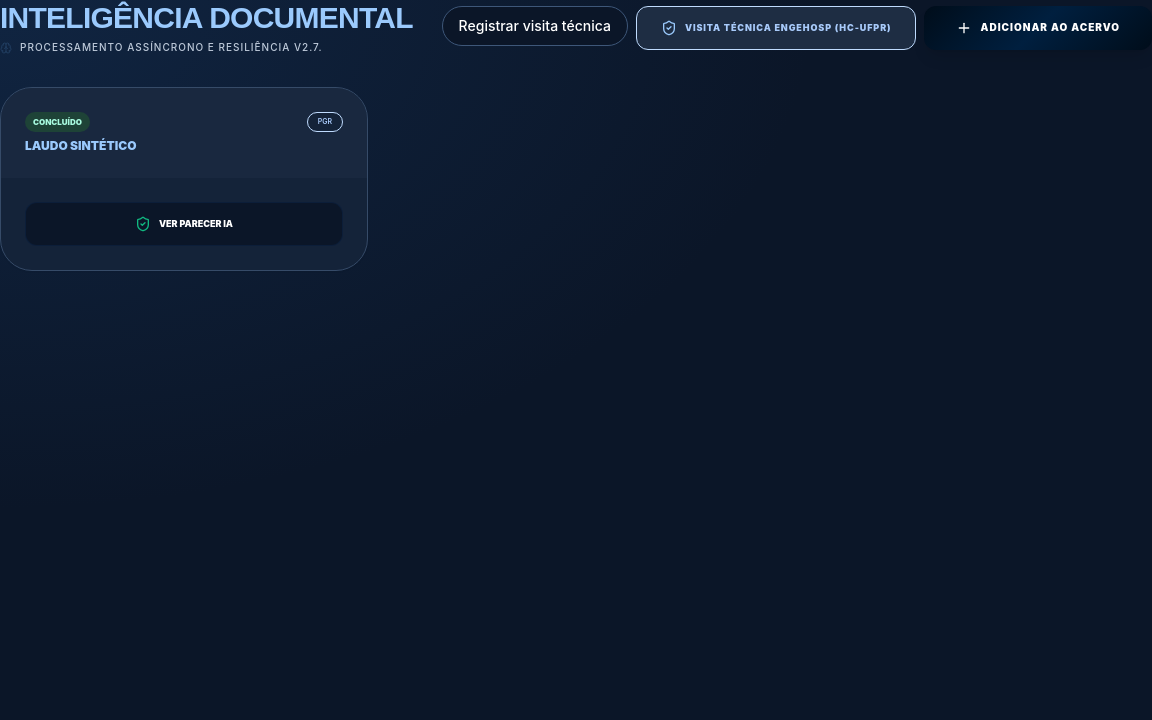
Test: report archive › shows only the selected company's reports and opens its analysis
What coordinates should you click on to do the following:
click the button "Ver Parecer IA"
I would click on:
 (184, 224)
Its box is top-left (25, 202), bottom-right (343, 246).
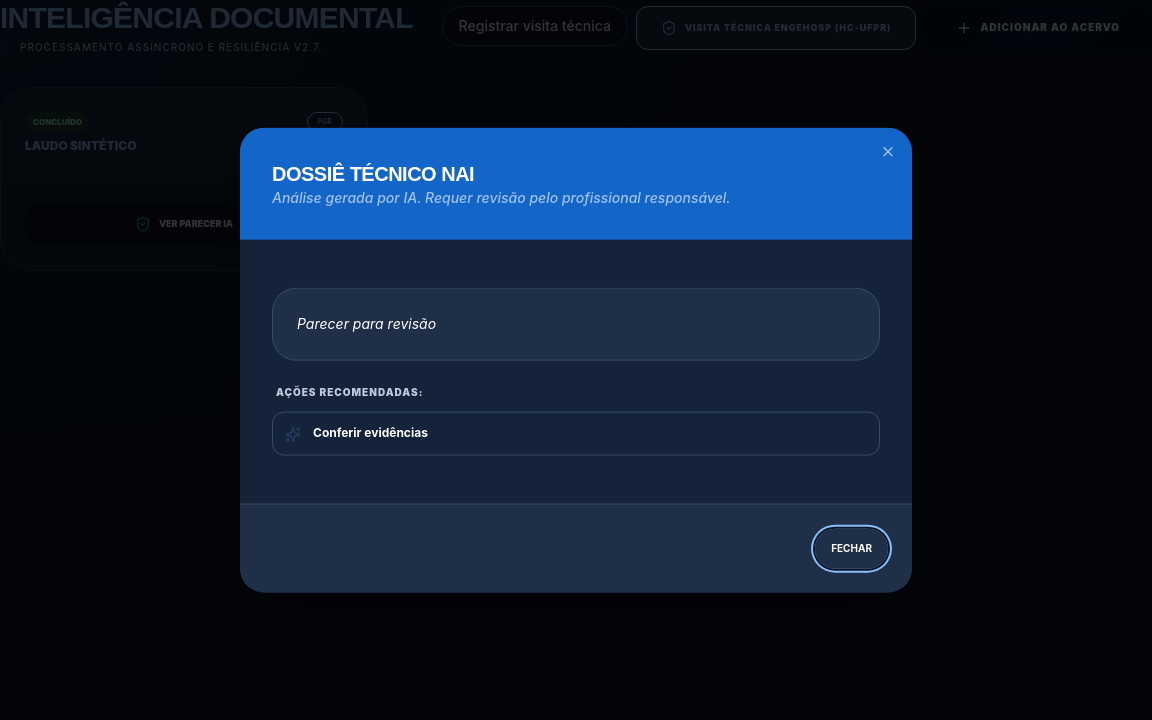
Expected: the text "Parecer para revisão" is shown, top-left (272, 288), bottom-right (880, 360)
